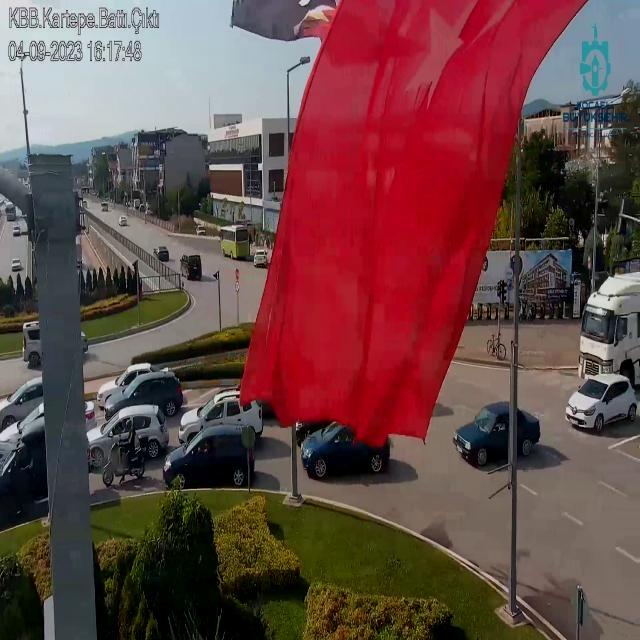Car: (162, 424, 253, 488), (455, 399, 539, 464), (297, 421, 392, 474), (177, 389, 266, 440), (103, 371, 183, 421), (565, 374, 636, 429)
Cycle: (102, 418, 147, 490)
